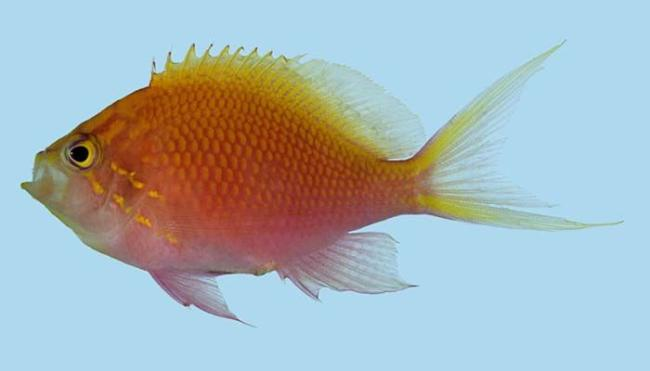fish: (20, 38, 627, 329)
